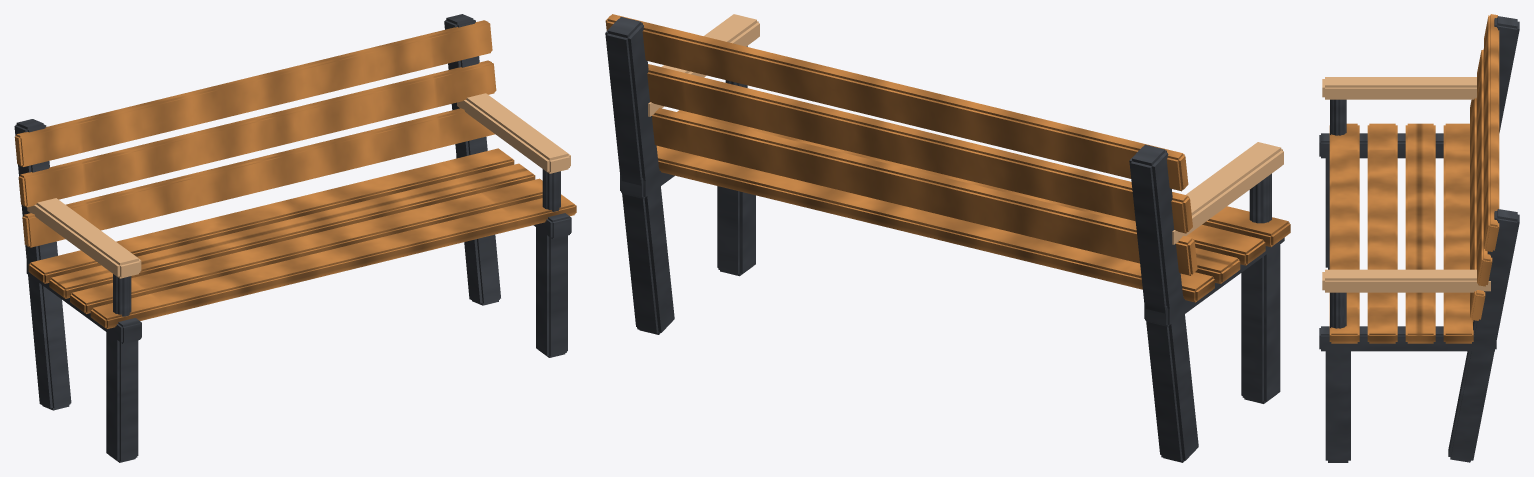
The model's file is furn_garden_bench.glb.
3 views of the same model, side by side, from view 1: azimuth 30°, elevation 25°; view 2: azimuth 150°, elevation 25°; view 3: azimuth 270°, elevation 25° (orthographic). The views are drawn at different scales.
Visible parts, largest first — view 1: furn_garden_bench; view 2: furn_garden_bench; view 3: furn_garden_bench.
Part boxes in pixels (x1,y1,x2,y2): furn_garden_bench: (14, 14, 576, 462); furn_garden_bench: (605, 14, 1290, 462); furn_garden_bench: (1319, 14, 1519, 462).
Size of the model in its own units: 1.58 by 0.859 by 0.6327.
3 materials, 2 textured.
